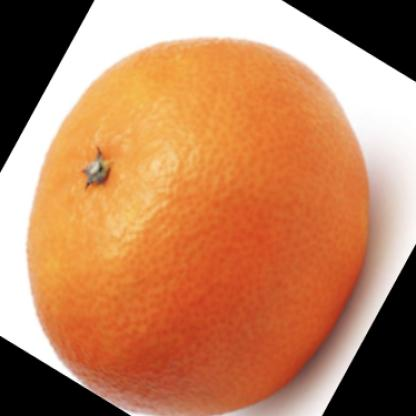fresh: (27, 40, 367, 416)
